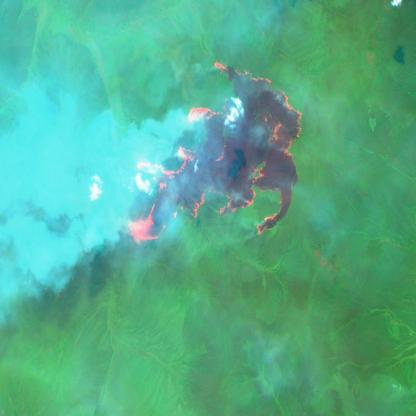fire: (113, 55, 307, 254)
